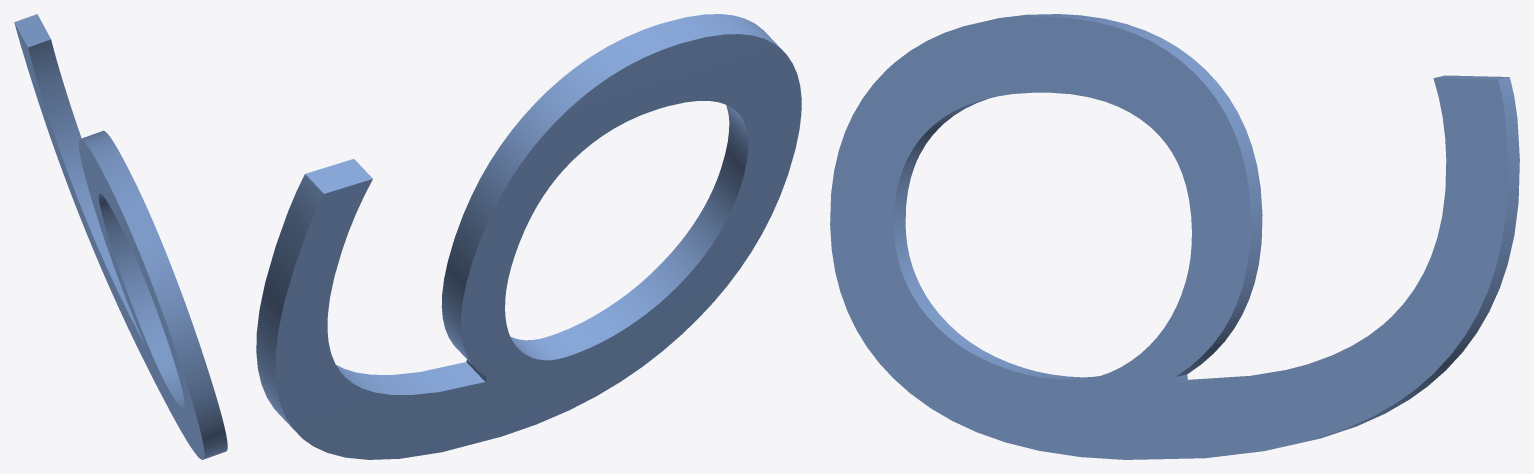
The model's file is New_Number_6.gltf.
3 views of the same model, side by side, from view 1: azimuth 30°, elevation 25°; view 2: azimuth 150°, elevation 25°; view 3: azimuth 270°, elevation 25° (orthographic). The views are drawn at different scales.
Parts seen in each view (by area): view 1: Part 627; view 2: Part 627; view 3: Part 627.
Boxes of the visible parts, left/top/right/bottom form: Part 627: left=14, top=14, right=227, bottom=459; Part 627: left=256, top=14, right=801, bottom=459; Part 627: left=830, top=14, right=1519, bottom=459.
Bounding box in the file's own units: 0.00207 × 0.00348 × 0.00555.
